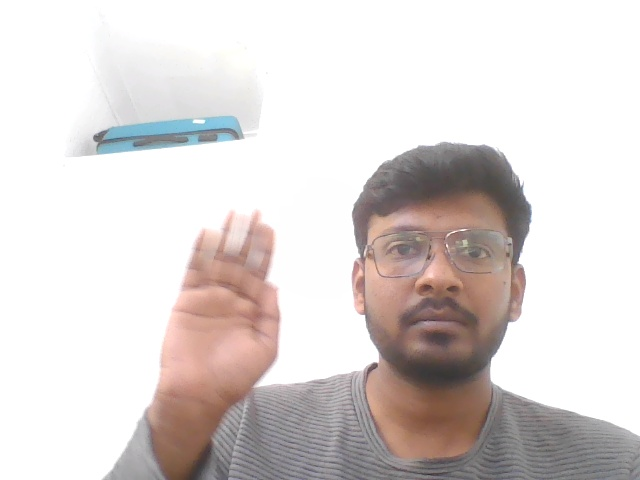Hello: (106, 191, 297, 470)
